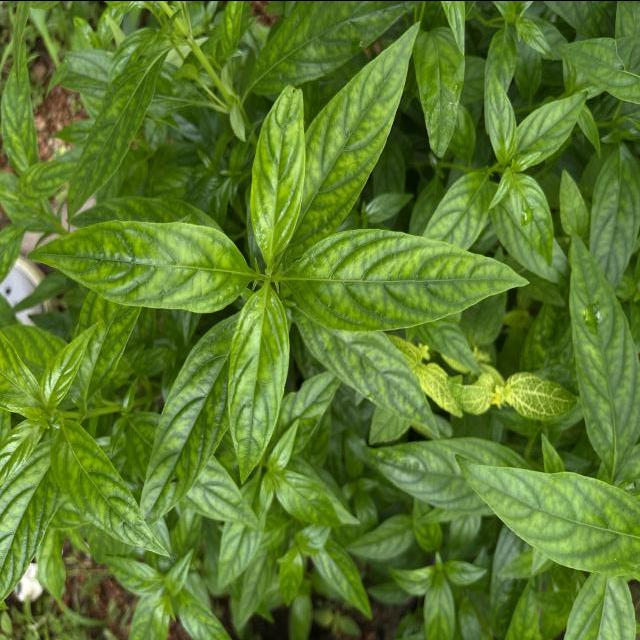Andrographis paniculata: (288, 21, 422, 248), (283, 224, 531, 336), (448, 452, 640, 576), (25, 218, 250, 318), (565, 226, 640, 488), (141, 330, 238, 532), (65, 48, 171, 218), (48, 416, 172, 561), (244, 0, 423, 94), (298, 328, 442, 440), (226, 283, 294, 489), (251, 84, 304, 264), (412, 29, 466, 162), (41, 320, 99, 412), (522, 88, 588, 164), (431, 172, 490, 255), (508, 170, 556, 268), (274, 470, 342, 528), (487, 68, 518, 165)
